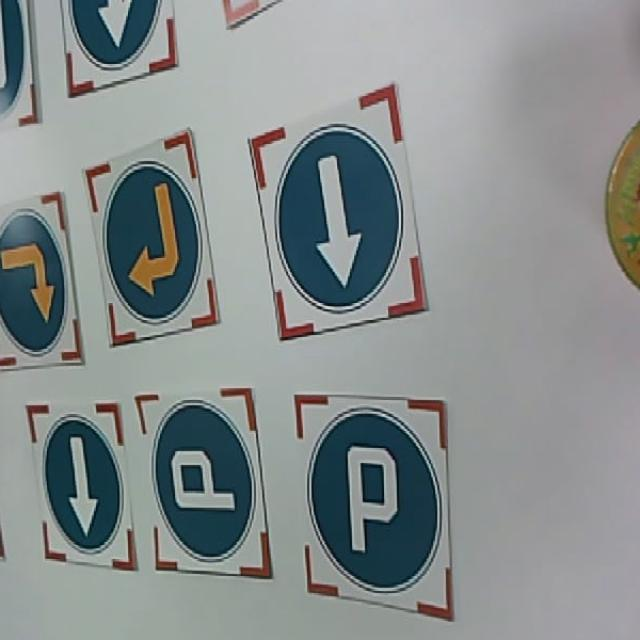parking: (294, 393, 454, 622), (134, 390, 272, 580), (0, 0, 45, 134)
straight: (244, 85, 430, 342), (24, 401, 134, 572), (56, 0, 179, 99)
turn: (79, 129, 219, 350), (0, 191, 87, 373)
